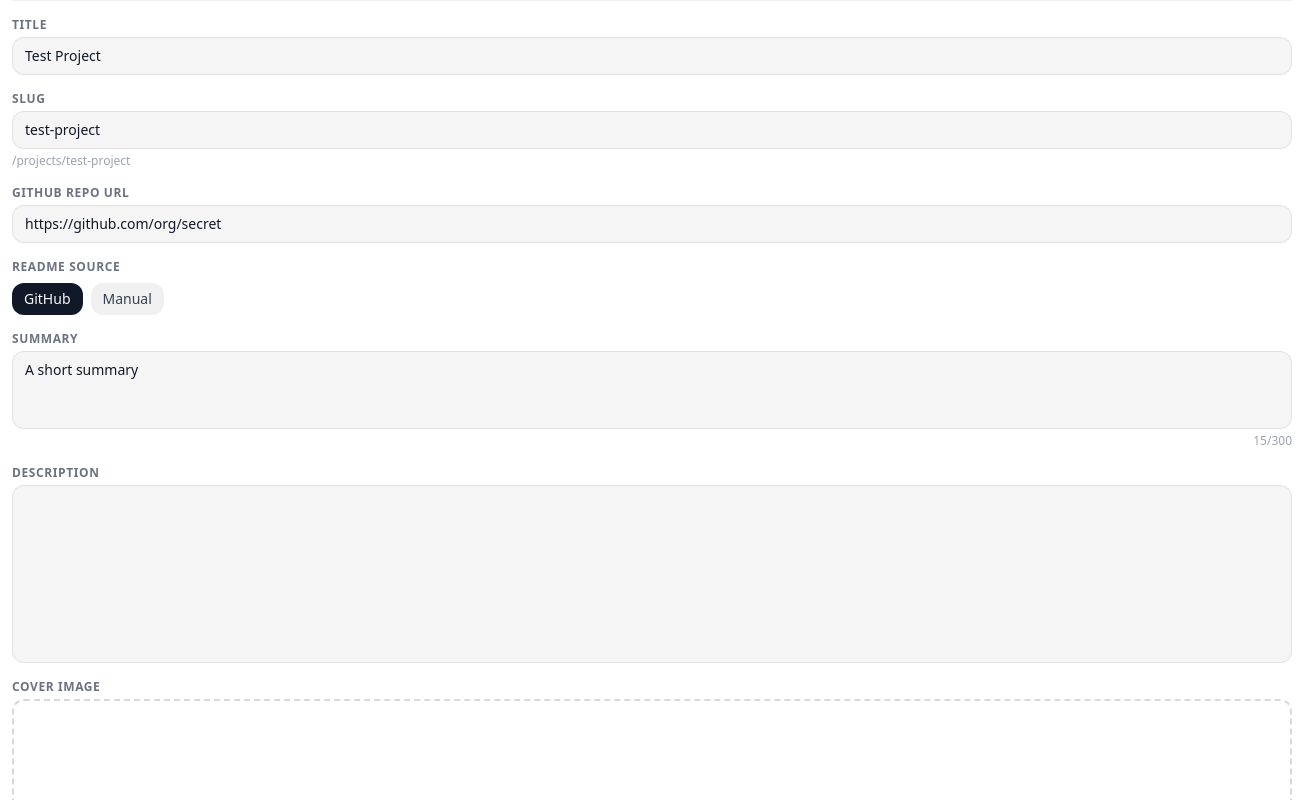
Test case: ProjectForm - manual README › shows an empty textarea and the helper note on the first switch to Manual
Click the button "Manual" at (127, 299), box [90,283,164,315]
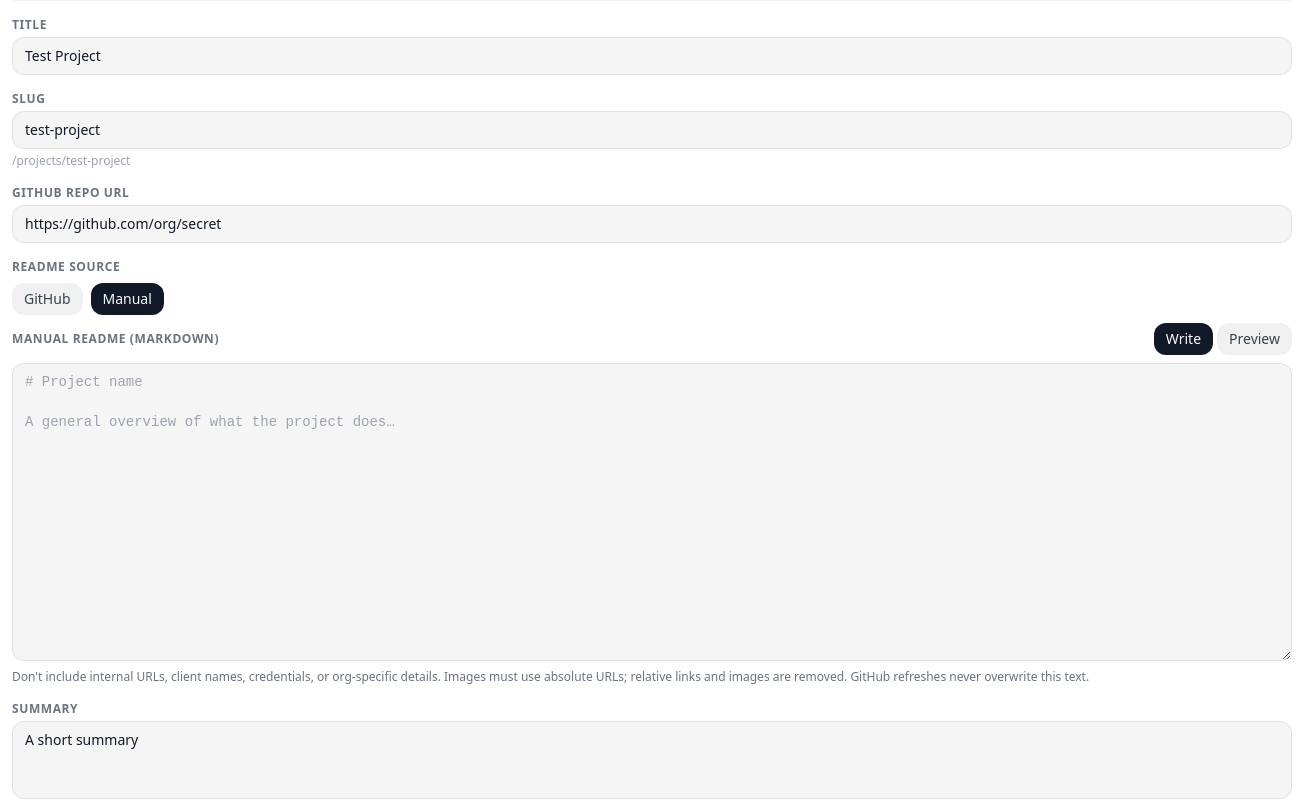
Now the text box labelled "Manual README (Markdown)" is empty, box [12,363,1292,661]
Now the text "Don't include internal URLs, client names, credentials, or org-specific details" is shown, box [12,668,1089,685]
